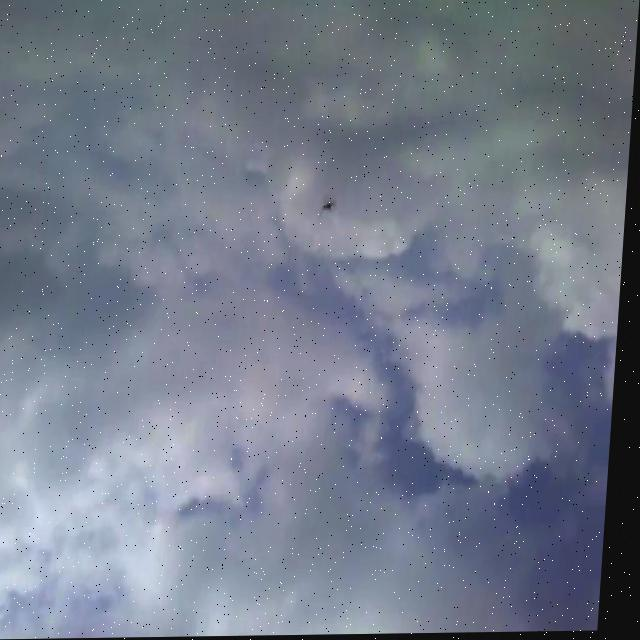drone: (321, 200, 341, 224)
